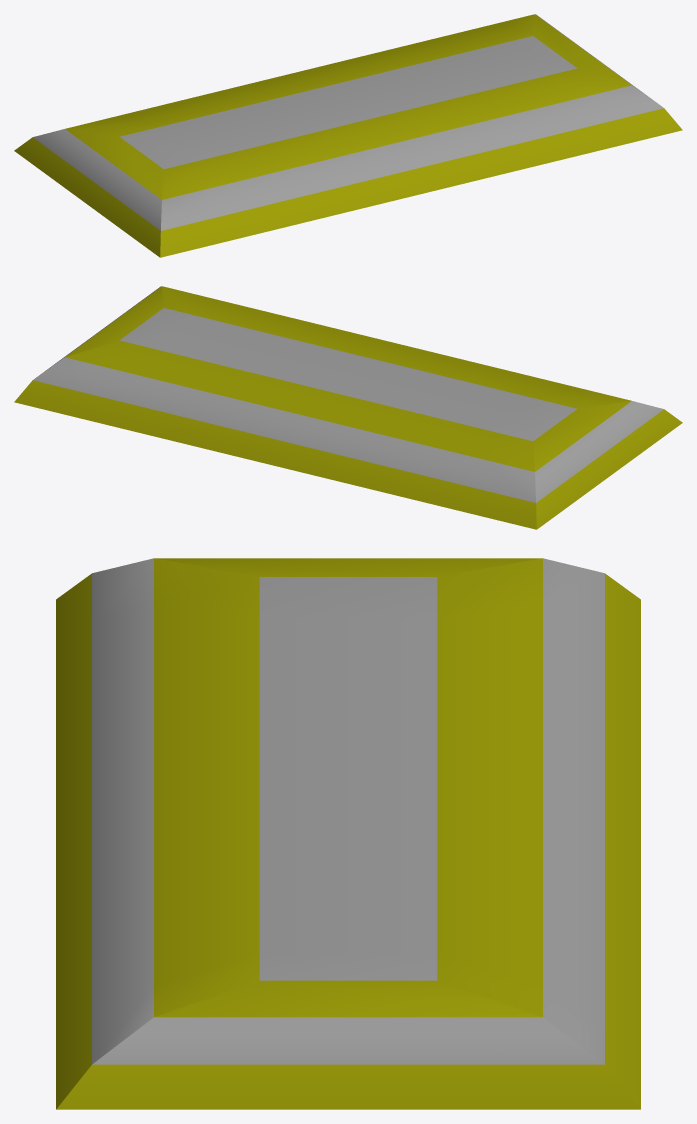
File: SpeedBump.fbx
The picture shows the model from 3 angles, top to bottom: view 1: azimuth 30°, elevation 25°; view 2: azimuth 150°, elevation 25°; view 3: azimuth 270°, elevation 25°; orthographic projection. The views are drawn at different scales.
Parts seen in each view (by area): view 1: Speed Bump; view 2: Speed Bump; view 3: Speed Bump.
Boxes of the visible parts, x1=… form: Speed Bump: x1=14, y1=14, x2=682, y2=257; Speed Bump: x1=14, y1=286, x2=682, y2=529; Speed Bump: x1=56, y1=558, x2=640, y2=1109.
Size of the model in its own units: 368 by 25.5 by 178.
